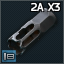AR-10 2A Armanent X3 7.62x51 compensator: (0, 0, 64, 64)
